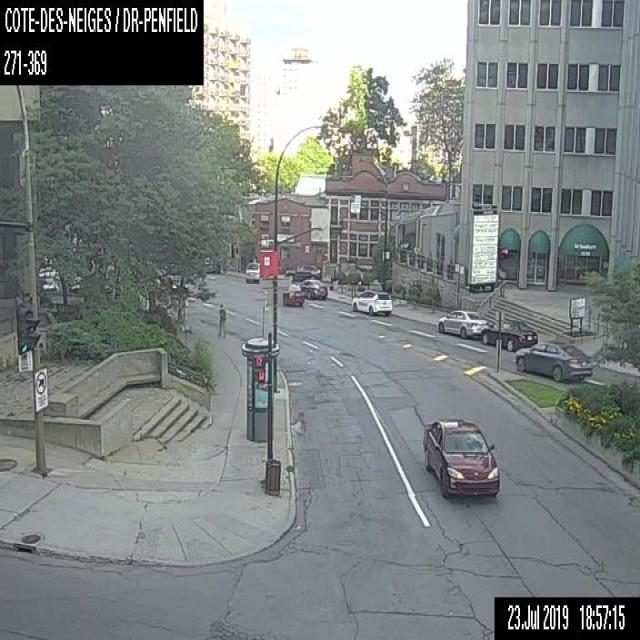pedestrian: (216, 301, 227, 339)
vehicle: (422, 414, 499, 494), (514, 340, 591, 381), (481, 318, 537, 351), (437, 308, 488, 339), (351, 288, 392, 315), (284, 263, 320, 280), (297, 278, 327, 298), (282, 283, 304, 306), (244, 260, 260, 282)
